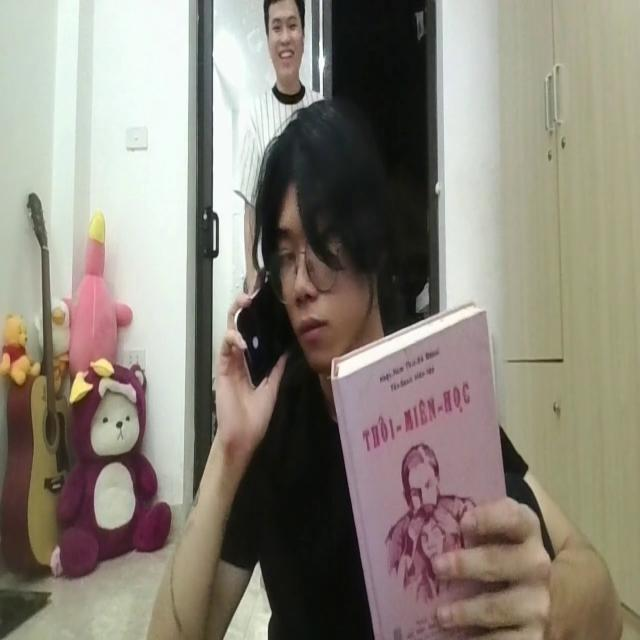book: (331, 299, 504, 640)
extra_person: (246, 1, 316, 132)
phone: (232, 267, 301, 390)
student: (148, 90, 620, 640)
